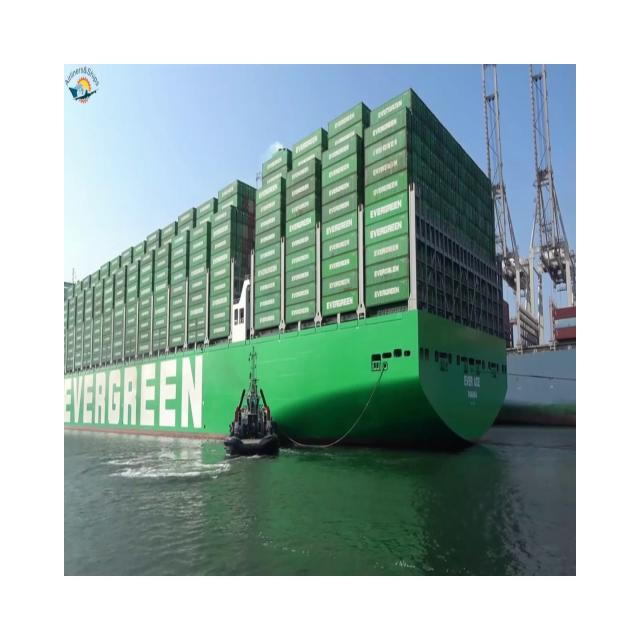OCR: (61, 346, 218, 440)
